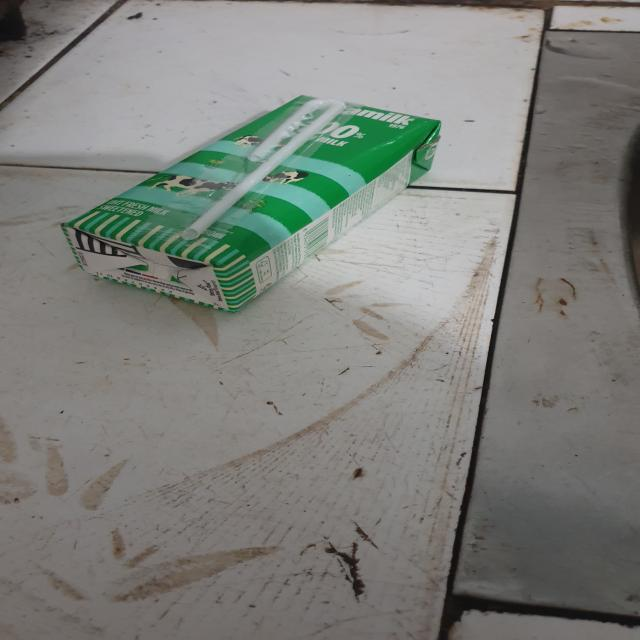Vina: (69, 93, 441, 314)
